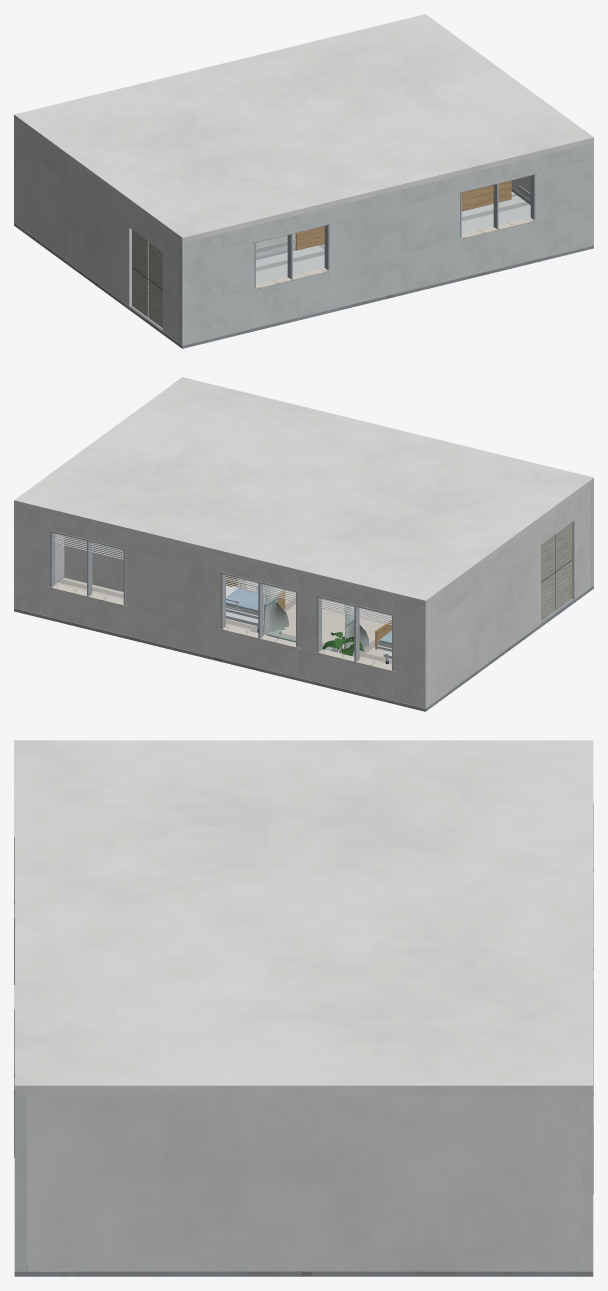
File: mobile.glb
3 renders of one model, top to bottom at view 1: azimuth 30°, elevation 25°; view 2: azimuth 150°, elevation 25°; view 3: azimuth 270°, elevation 25°, orthographic. The views are drawn at different scales.
Visible parts, largest first — view 1: BG_Ceiling, BG_Cutaway_Front, BG_Shell_Fixed, BG_Furnishings; view 2: BG_Ceiling, BG_Shell_Fixed, BG_Cutaway_Front, BG_Furnishings; view 3: BG_Ceiling, BG_Shell_Fixed, BG_Cutaway_Front.
Boxes of the visible parts, x1,y1,x2,y2 form: BG_Ceiling: (14,14,593,243); BG_Cutaway_Front: (17,123,593,345); BG_Shell_Fixed: (14,120,593,348); BG_Furnishings: (461,180,511,211); BG_Ceiling: (14,377,593,605); BG_Shell_Fixed: (14,506,593,711); BG_Cutaway_Front: (429,483,593,704); BG_Furnishings: (226,576,391,663); BG_Ceiling: (14,740,593,1094); BG_Shell_Fixed: (14,803,593,1276); BG_Cutaway_Front: (14,837,27,1270).
Bounding box in the file's own units: 12 × 3.1 × 8.52.
Materials: 2 (2 with a texture image).
